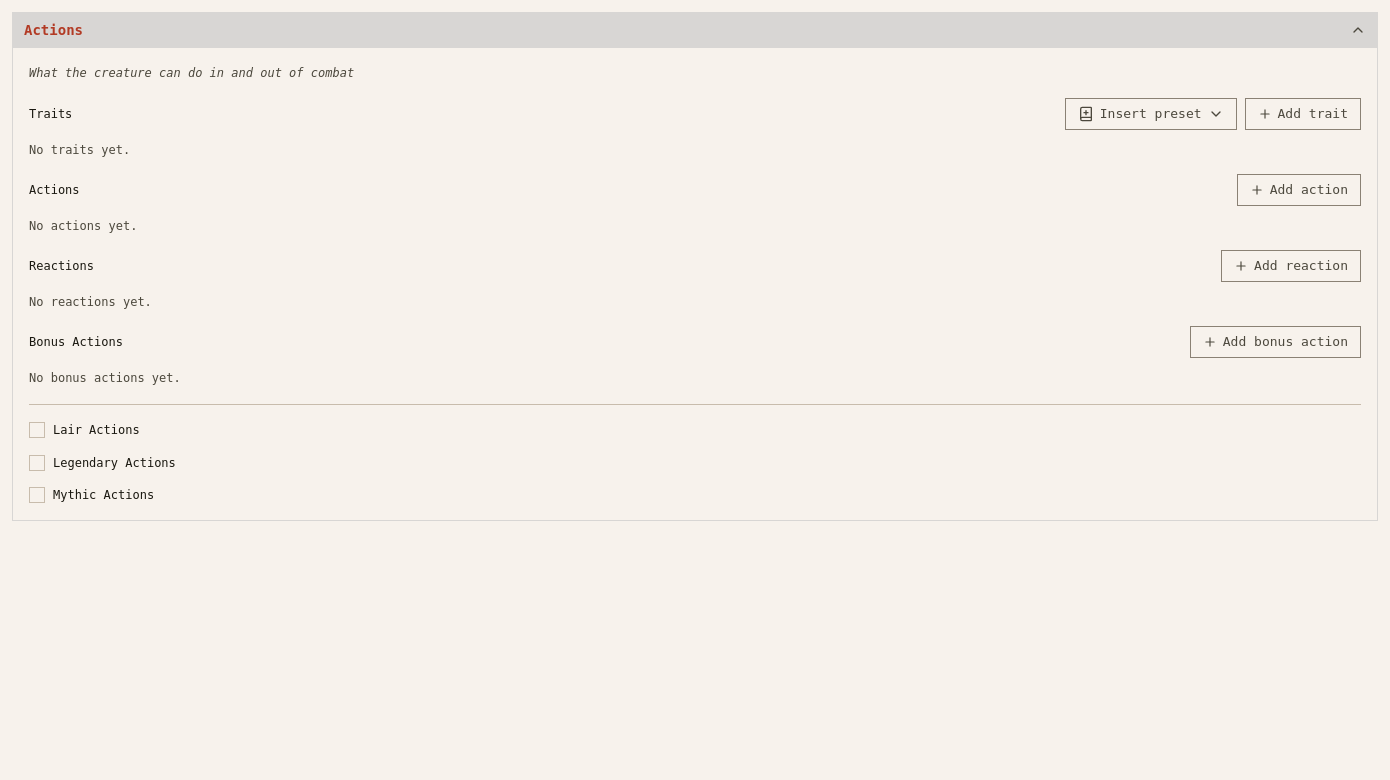
Scenario: ActionsForm — feature lists › reveals the Legendary Actions list only once the checkbox is checked
Expected: the text "Legendary Description" is not shown
Click the checkbox named "Legendary Actions" next to "Legendary Actions" at x=37, y=463, box x1=29 y1=455 x2=45 y2=471
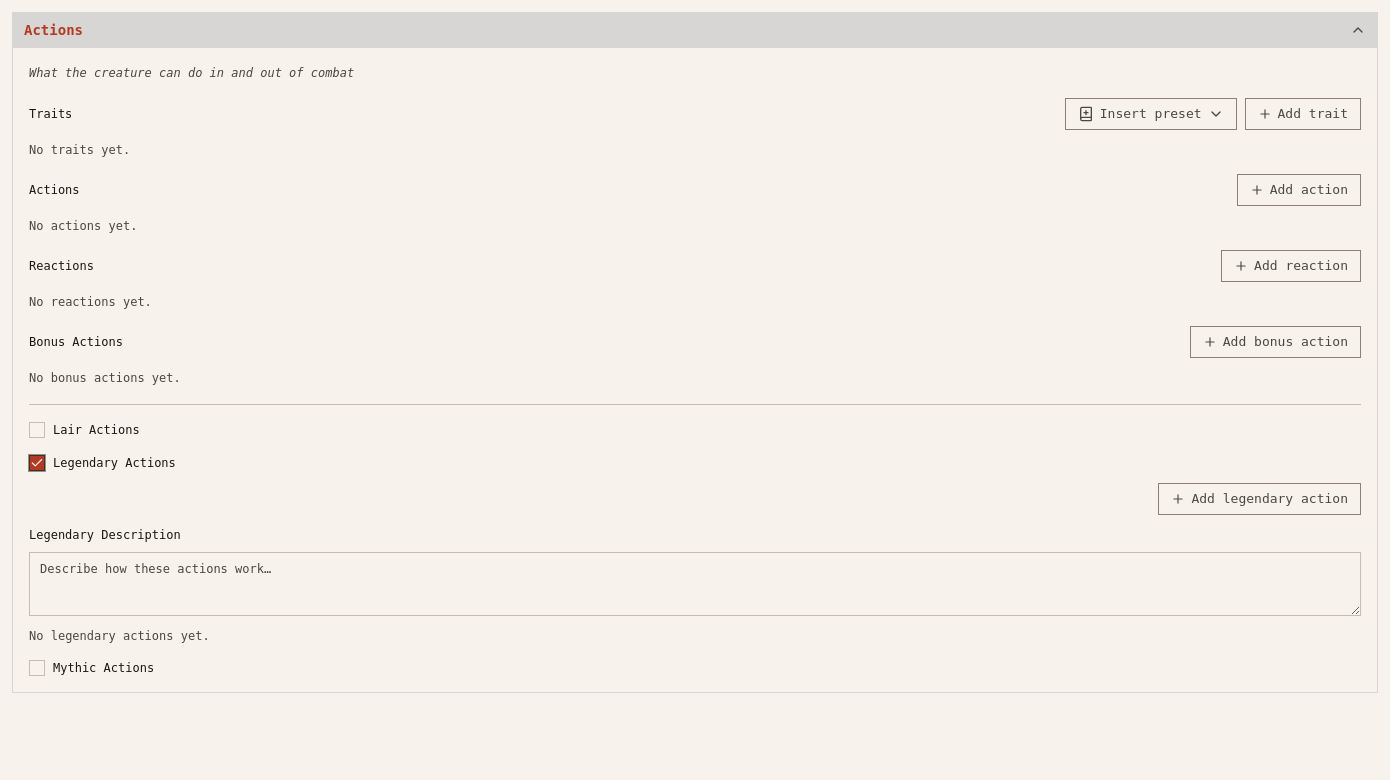
Result: the text "Legendary Description" is shown at x1=29 y1=528 x2=181 y2=542
Result: the button "Add legendary action" is shown at x1=1158 y1=483 x2=1361 y2=515
